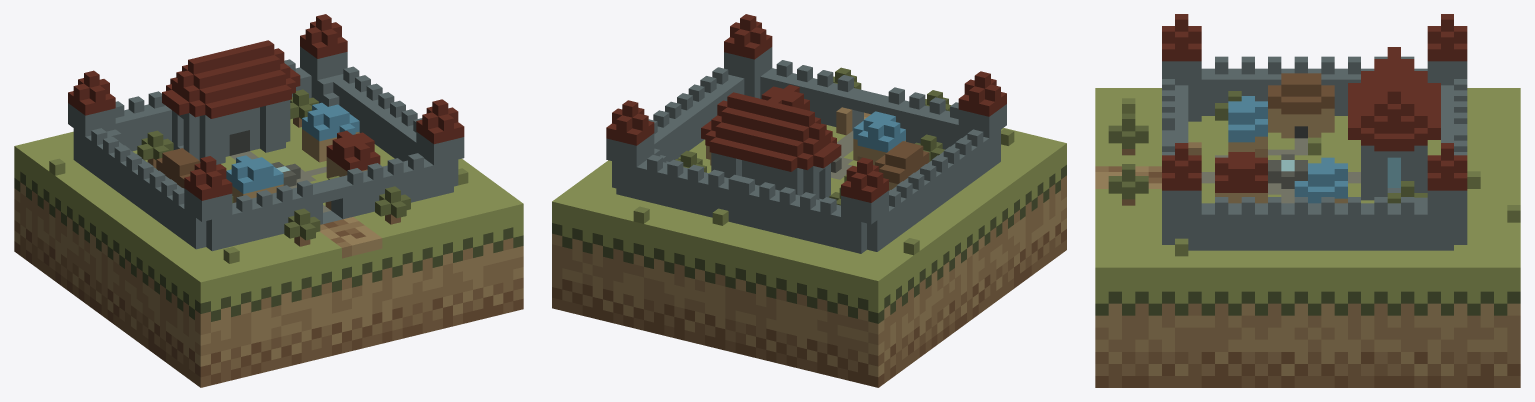
Rendered from Overworld_Land_10.obj.
3 renders of one model, left to right at view 1: azimuth 30°, elevation 25°; view 2: azimuth 150°, elevation 25°; view 3: azimuth 270°, elevation 25°, orthographic. The views are drawn at different scales.
Size of the model in its own units: 3.2 by 1.9 by 3.2.
Materials: 1 (1 with a texture image).
